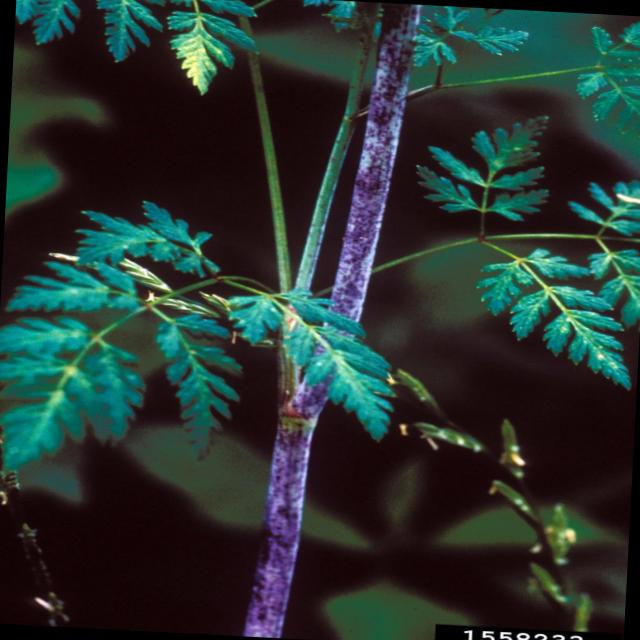Poisonous-Hemlock: (0, 190, 402, 499), (411, 110, 640, 417)
